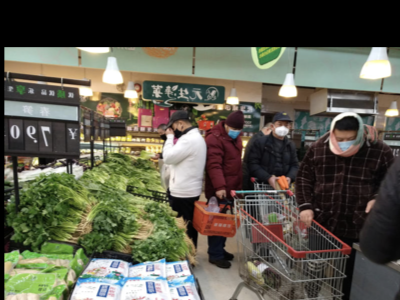with_mask: (332, 133, 359, 156), (274, 121, 289, 139), (227, 126, 243, 140), (171, 125, 182, 139), (157, 130, 166, 142)
